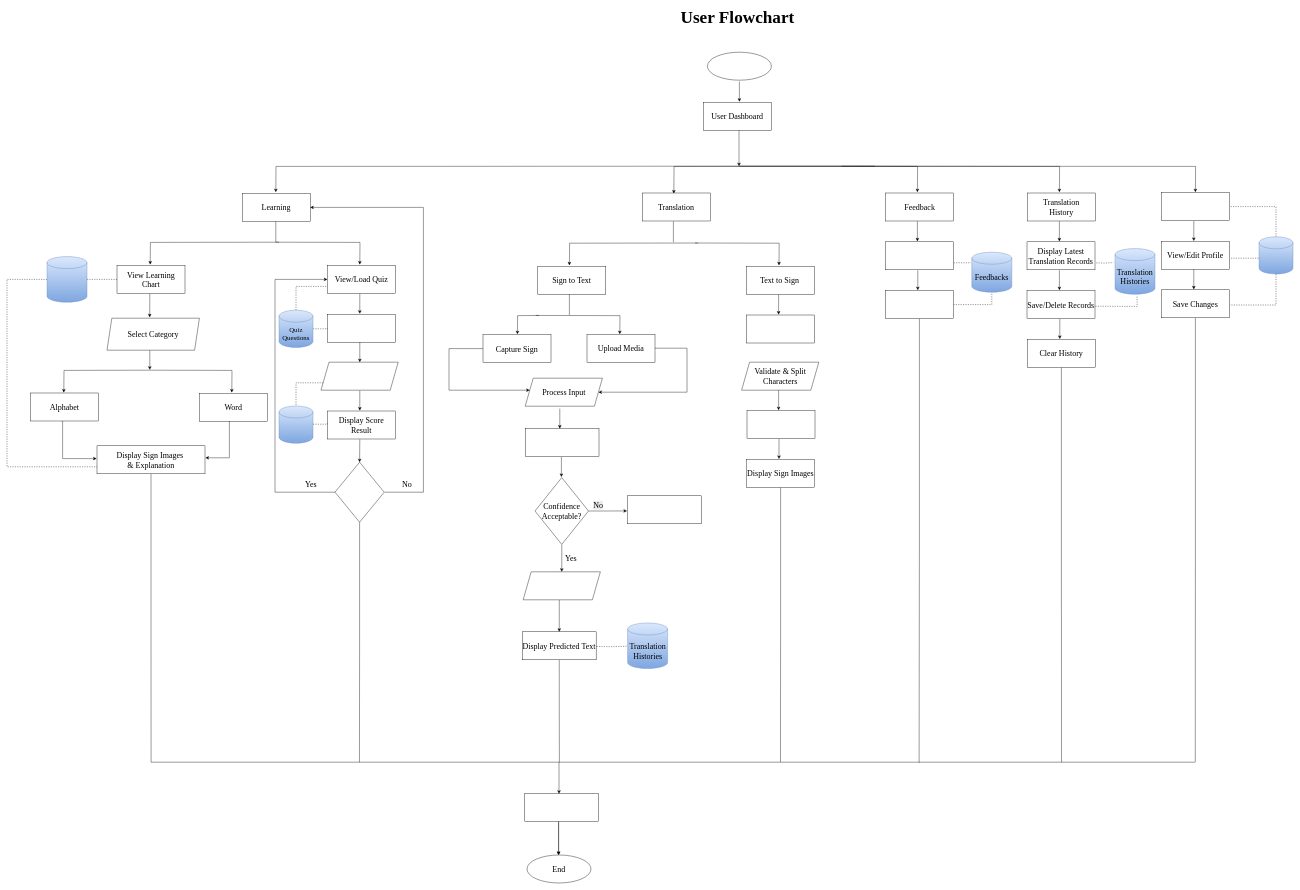
Some shapes in this 1300 by 890 pixel diagram are drawn without their labels. The centre of each missing label's shape, as x and y in pixels:
"AI Model Prediction" goes at point (562, 442).
"Answer Quiz" goes at point (361, 328).
"Calculate Score" goes at point (359, 376).
"Identify Alphabet or Word" goes at point (561, 585).
"Input Feedback" goes at point (919, 255).
"Input Text" goes at point (780, 329).
"Logout" goes at point (561, 807).
"Map Characters to ASL Images" goes at point (781, 424).
"Profile Settings" goes at point (1195, 206).
"Quiz Results" goes at point (296, 424).
"Restart?" goes at point (359, 492).
"Show Uncertain Result" goes at point (664, 509).
"Sign Materials" goes at point (67, 279).
"Start" goes at point (739, 66).
"Submit Feedback" goes at point (919, 304).
"Users" goes at point (1276, 255).
